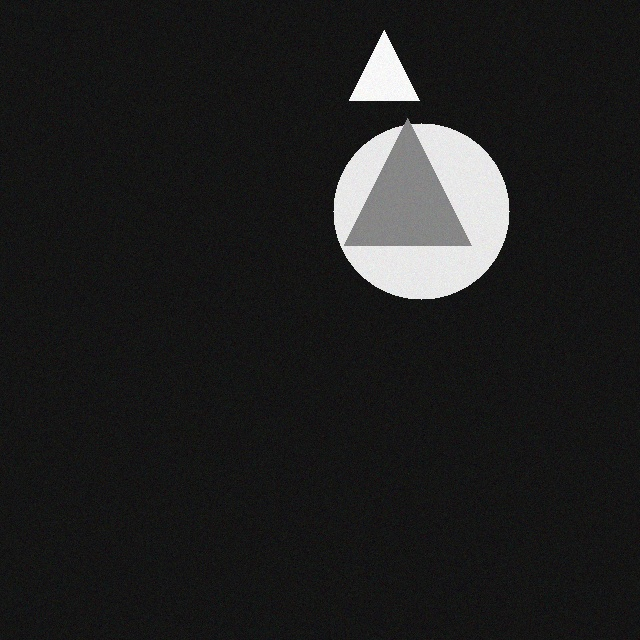circle: (321, 137, 497, 313)
triangle: (332, 132, 459, 259), (337, 44, 407, 114)
